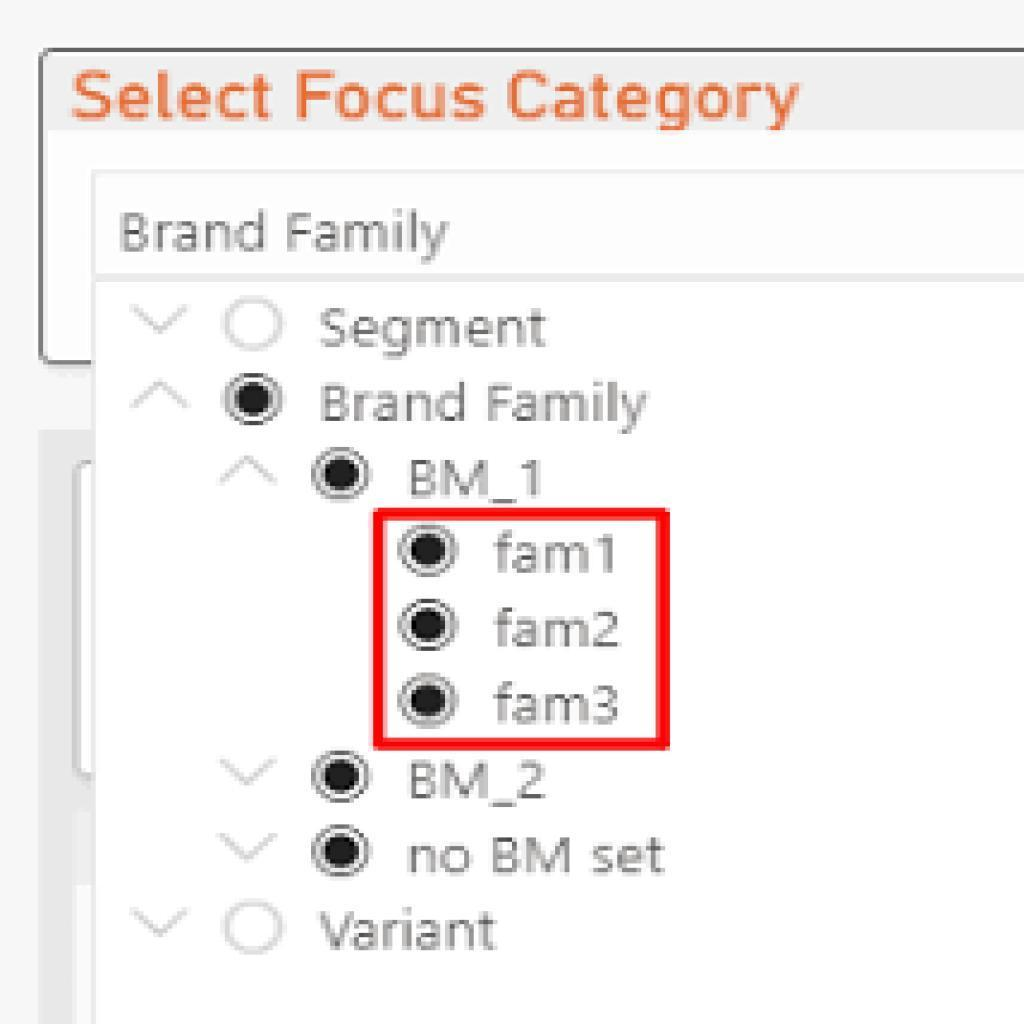label: (319, 380, 650, 437), (316, 300, 551, 363), (407, 832, 666, 879), (320, 906, 502, 956), (401, 455, 546, 507), (492, 675, 622, 733), (494, 601, 626, 655), (410, 759, 552, 808), (493, 529, 620, 581)
radio: (215, 368, 295, 435), (218, 289, 290, 356), (304, 447, 379, 507), (220, 900, 292, 958), (396, 672, 463, 731), (396, 598, 464, 656), (310, 749, 375, 804), (398, 524, 464, 578), (311, 824, 374, 878)
